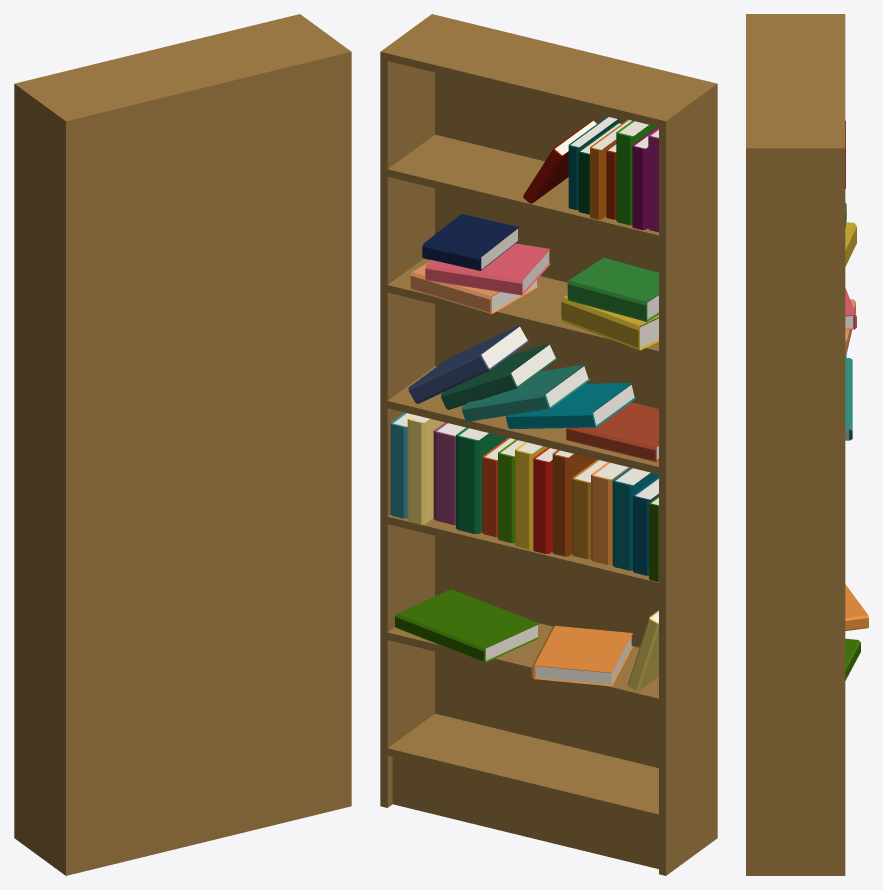
File: M_Sem4_Prop_Buecherregal_FHaufe.fbx
The picture shows the model from 3 angles, left to right: view 1: azimuth 30°, elevation 25°; view 2: azimuth 150°, elevation 25°; view 3: azimuth 270°, elevation 25°; orthographic projection. The views are drawn at different scales.
Visible parts, largest first — view 1: regal2; view 2: regal2; view 3: regal2.
Part boxes in pixels (box(x1,y1,x2,y2)): regal2: box(14, 14, 351, 875); regal2: box(380, 14, 717, 875); regal2: box(746, 14, 868, 875).
Bounding box in the file's own units: 80 × 202 × 30.94.
